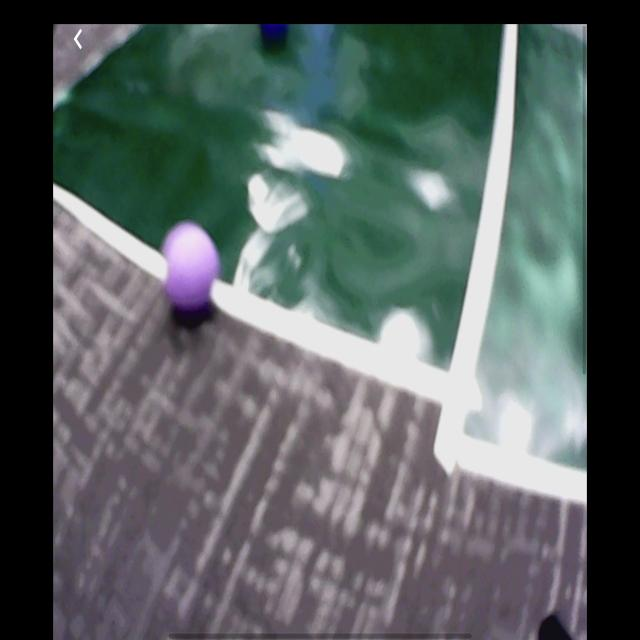ball: (164, 222, 221, 318), (258, 24, 295, 47)
